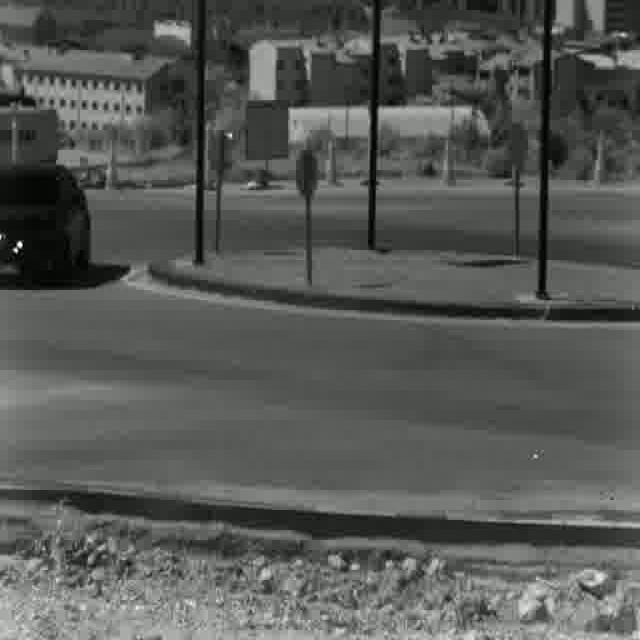Car: (0, 162, 94, 286)
